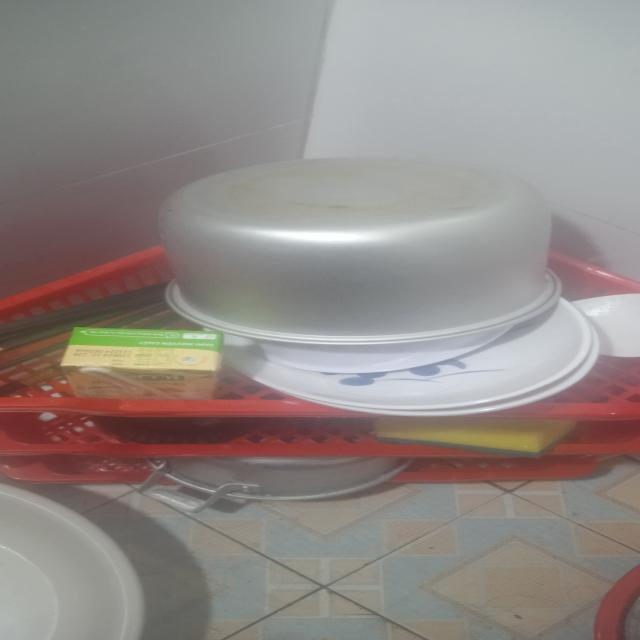Fami: (63, 328, 224, 402)
